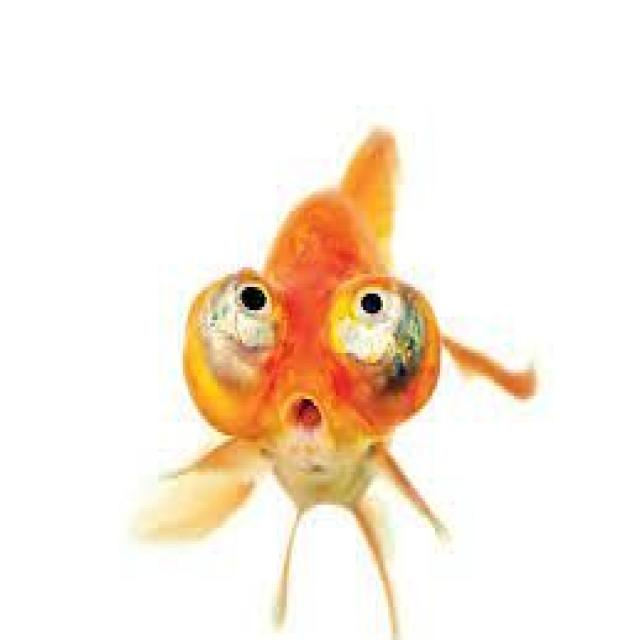Gold-Fish: (86, 82, 566, 582)
